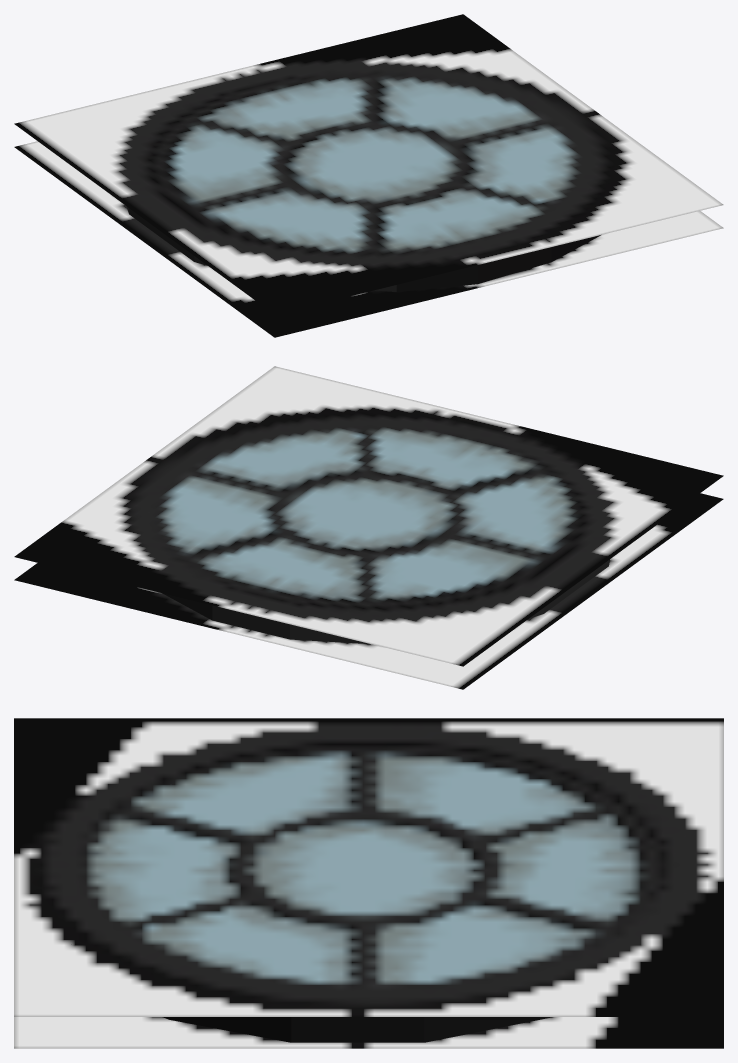
Rendered from pz_native_fixtures_windows_metal_31_frame.obj.
The picture shows the model from 3 angles, top to bottom: view 1: azimuth 30°, elevation 25°; view 2: azimuth 150°, elevation 25°; view 3: azimuth 270°, elevation 25°; orthographic projection. The views are drawn at different scales.
Visible parts, largest first — view 1: pz_native_fixtures_windows_metal_31_frame; view 2: pz_native_fixtures_windows_metal_31_frame; view 3: pz_native_fixtures_windows_metal_31_frame.
Boxes of the visible parts, x1,y1,x2,y2 form: pz_native_fixtures_windows_metal_31_frame: (14,14,723,337); pz_native_fixtures_windows_metal_31_frame: (14,366,723,689); pz_native_fixtures_windows_metal_31_frame: (14,718,723,1048).
Size of the model in its own units: 0.8125 by 0.04 by 0.8165.
Materials: 1 (1 with a texture image).
